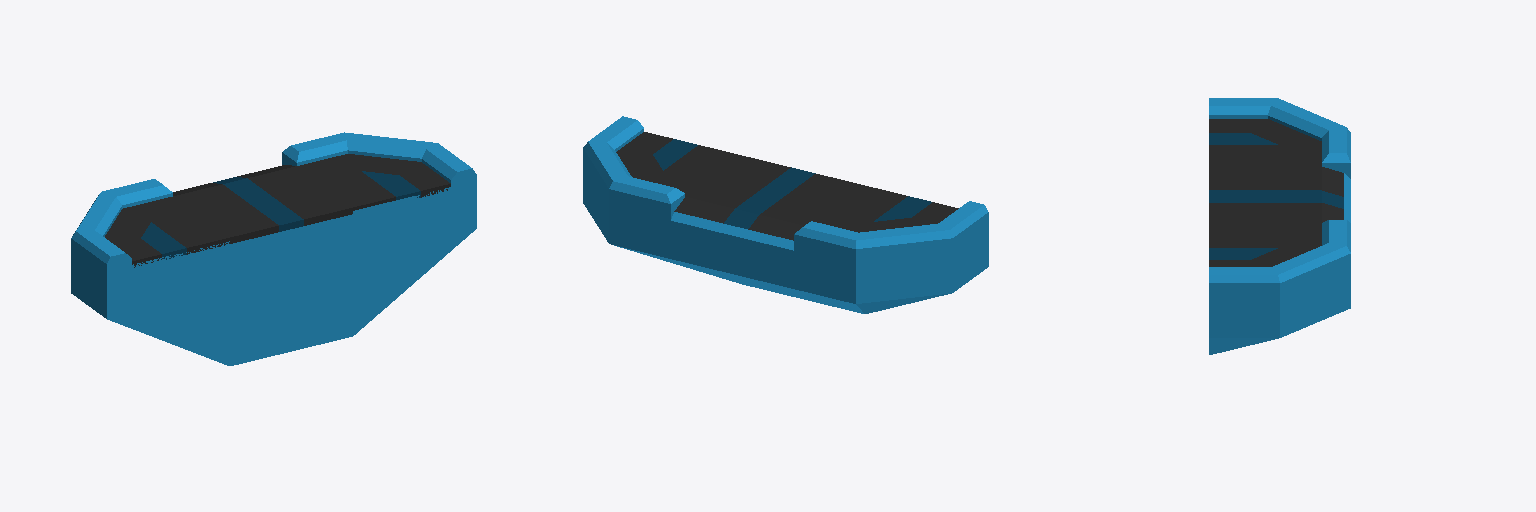
The model's file is Spacestation_Structure_Runway_End.obj.
The picture shows the model from 3 angles: view 1: azimuth 30°, elevation 25°; view 2: azimuth 150°, elevation 25°; view 3: azimuth 270°, elevation 25°; orthographic projection.
Parts seen in each view (by area): view 1: object6, object4, object2, object3, object5, object1; view 2: object6, object4, object2, object3, object1, object5; view 3: object6, object2, object4, object3, object5, object1.
Boxes of the visible parts, box(x1,y1,x2,y2) form: object6: box(71, 132, 476, 365); object4: box(237, 154, 450, 225); object2: box(105, 183, 278, 267); object3: box(213, 177, 303, 231); object5: box(141, 222, 186, 259); object1: box(362, 171, 420, 199); object6: box(583, 116, 988, 313); object4: box(616, 132, 790, 223); object2: box(748, 174, 958, 240); object3: box(724, 167, 815, 228); object1: box(653, 139, 697, 170); object5: box(874, 196, 931, 221); object6: box(1209, 98, 1350, 354); object2: box(1209, 119, 1343, 196); object4: box(1209, 203, 1343, 266); object3: box(1209, 190, 1343, 208); object5: box(1209, 133, 1277, 144); object1: box(1209, 248, 1277, 259).
Bounding box in the file's own units: 3 × 1.08 × 1.